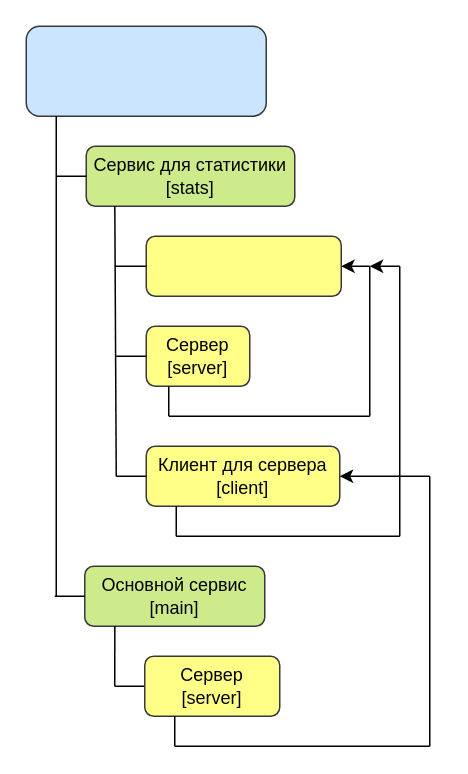
Some shapes in this 468 by 774 pixel diagram are drawn without their labels. The centre of each missing label's shape, as x and y in pixels:
"EWM (Explore with me) [java-explore-with-me]" goes at point 145,70.
"Общие компоненты [common]" goes at point 243,265.
